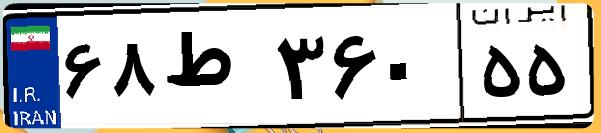0: (385, 28, 445, 110)
3: (270, 28, 330, 110)
5: (475, 38, 525, 113), (525, 38, 570, 115)
6: (330, 28, 385, 110), (57, 26, 110, 100)
8: (110, 28, 158, 98)
ط: (158, 20, 270, 120)
